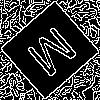M: (25, 25, 86, 86)
